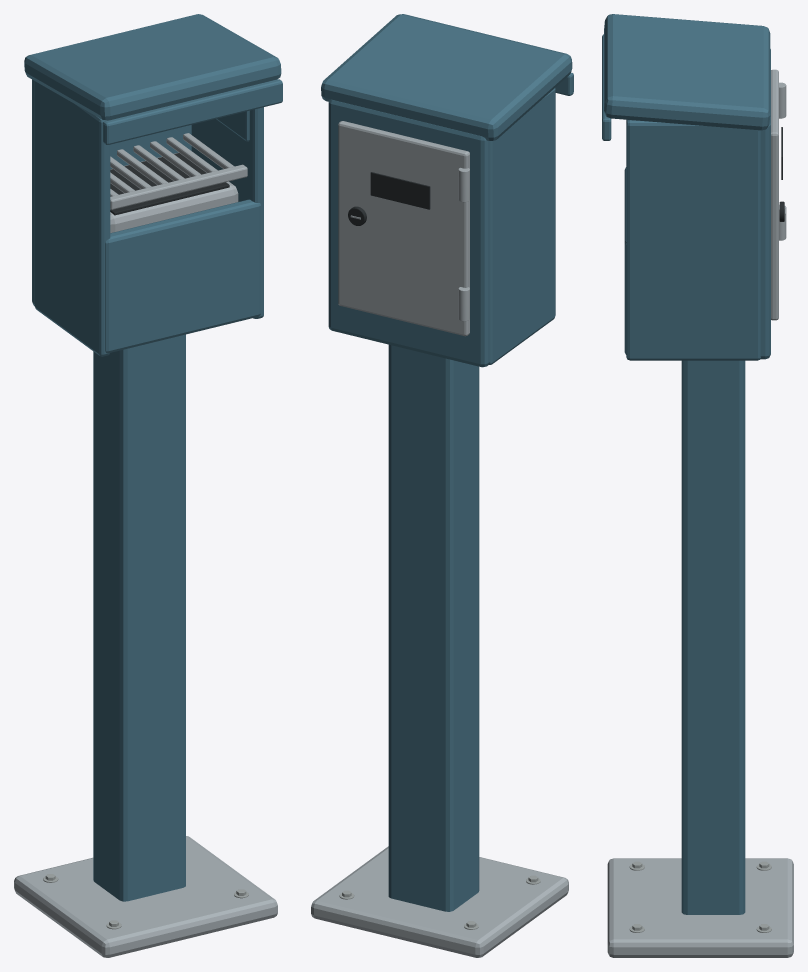
File: city-cigarette-disposal-pedestal.glb
3 renders of one model, left to right at view 1: azimuth 30°, elevation 25°; view 2: azimuth 150°, elevation 25°; view 3: azimuth 270°, elevation 25°, orthographic. The views are drawn at different scales.
Parts seen in each view (by area): view 1: Assembly | Dusty blue powder coat, Assembly | Brushed stainless steel, Assembly | Recess shadow metal; view 2: Assembly | Dusty blue powder coat, Assembly | Brushed stainless steel, Assembly | Recess shadow metal; view 3: Assembly | Dusty blue powder coat, Assembly | Brushed stainless steel, Assembly | Galvanized hardware.
Boxes of the visible parts, x1=… form: Assembly | Dusty blue powder coat: x1=24, y1=14, x2=282, y2=901; Assembly | Brushed stainless steel: x1=14, y1=133, x2=277, y2=957; Assembly | Recess shadow metal: x1=110, y1=153, x2=229, y2=215; Assembly | Dusty blue powder coat: x1=321, y1=14, x2=573, y2=911; Assembly | Brushed stainless steel: x1=311, y1=121, x2=568, y2=957; Assembly | Recess shadow metal: x1=348, y1=172, x2=430, y2=225; Assembly | Dusty blue powder coat: x1=602, y1=14, x2=770, y2=914; Assembly | Brushed stainless steel: x1=607, y1=69, x2=793, y2=957; Assembly | Galvanized hardware: x1=629, y1=861, x2=771, y2=932.
Size of the model in its own units: 0.246 by 1.12 by 0.2265.
